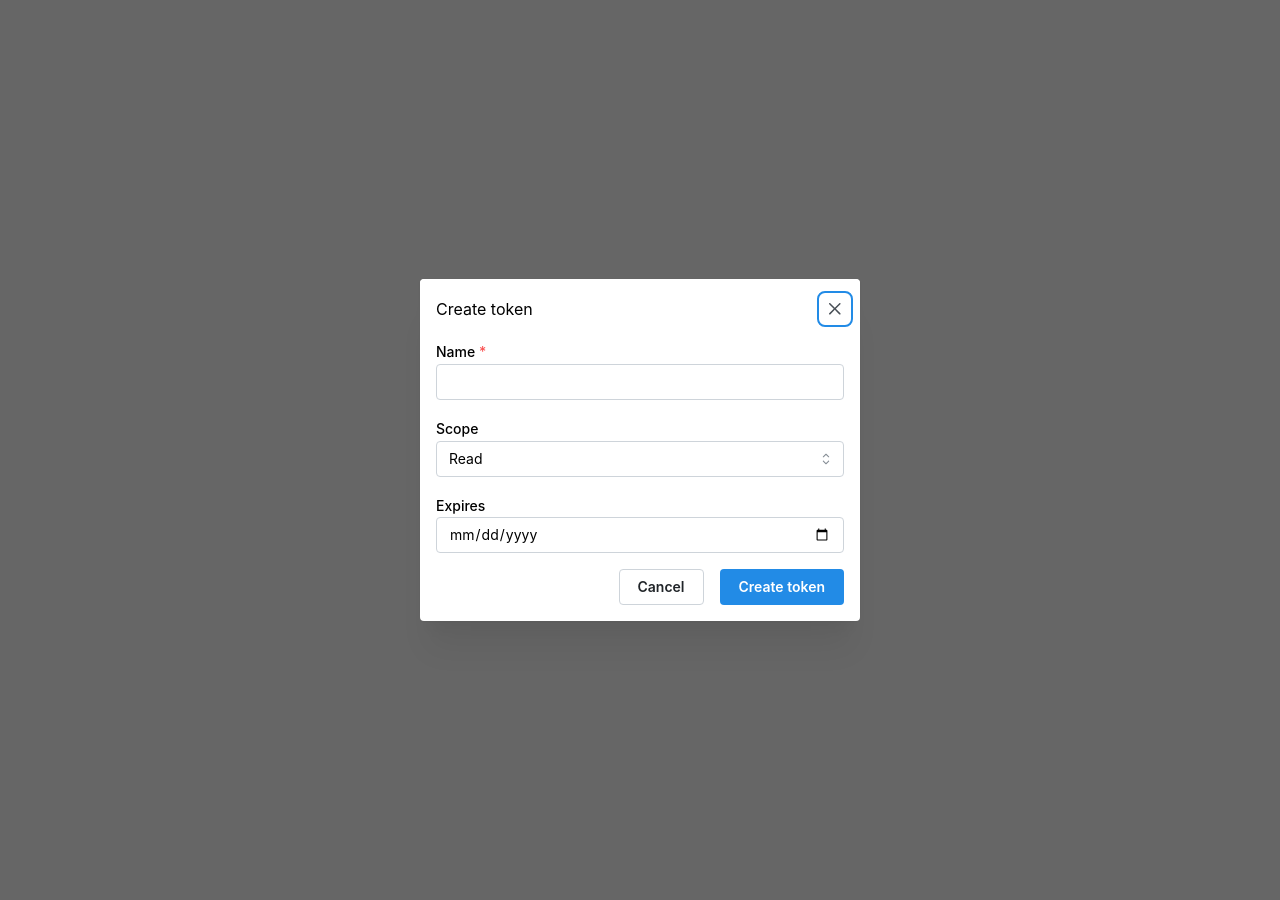
Test: CreateTokenModal › shows the server-written detail verbatim on a validation failure
Type "x" into the field labelled "Name *" at point(640, 382), box [436,364,844,400]
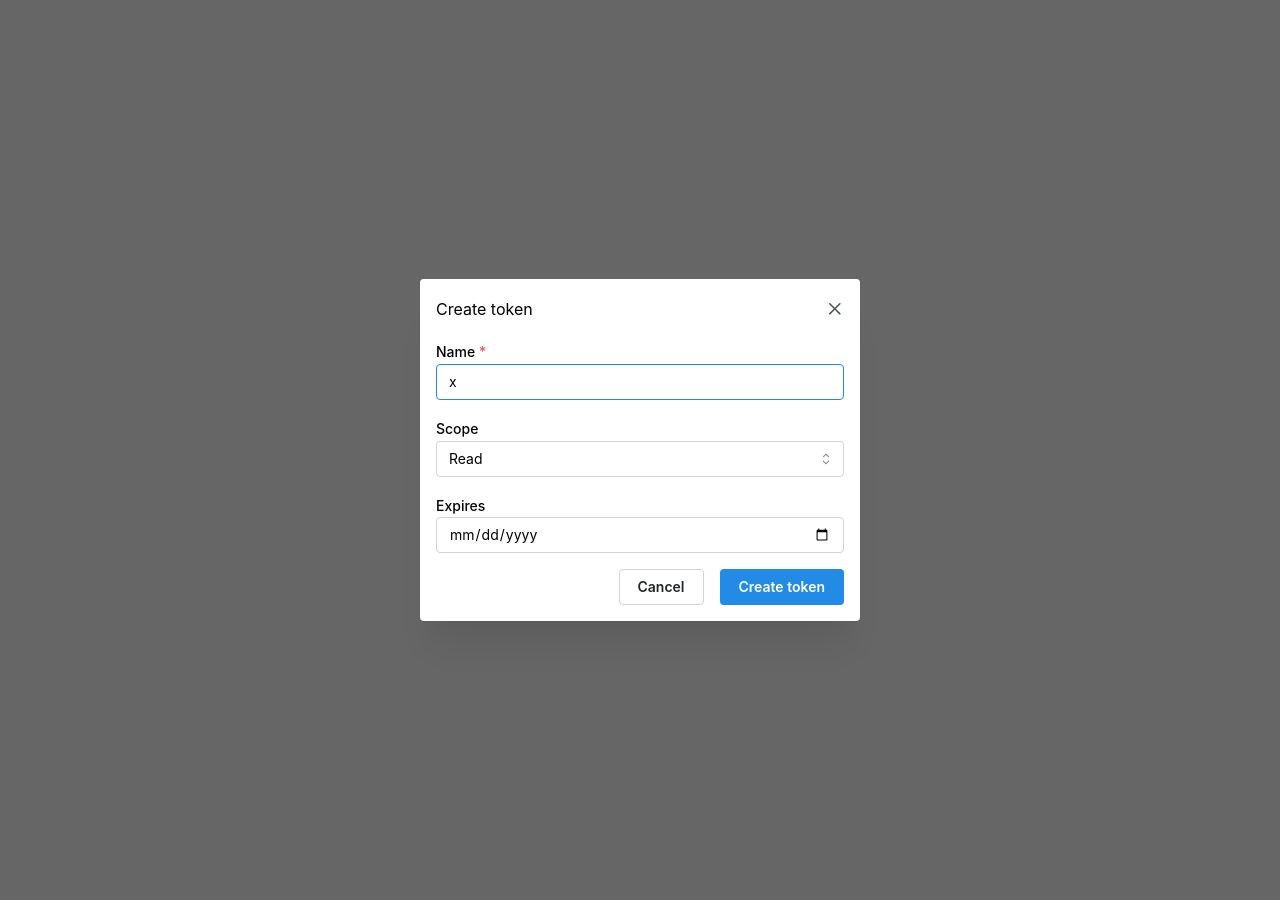
Click the button "Create token" at point(782, 587), box [720,569,844,605]
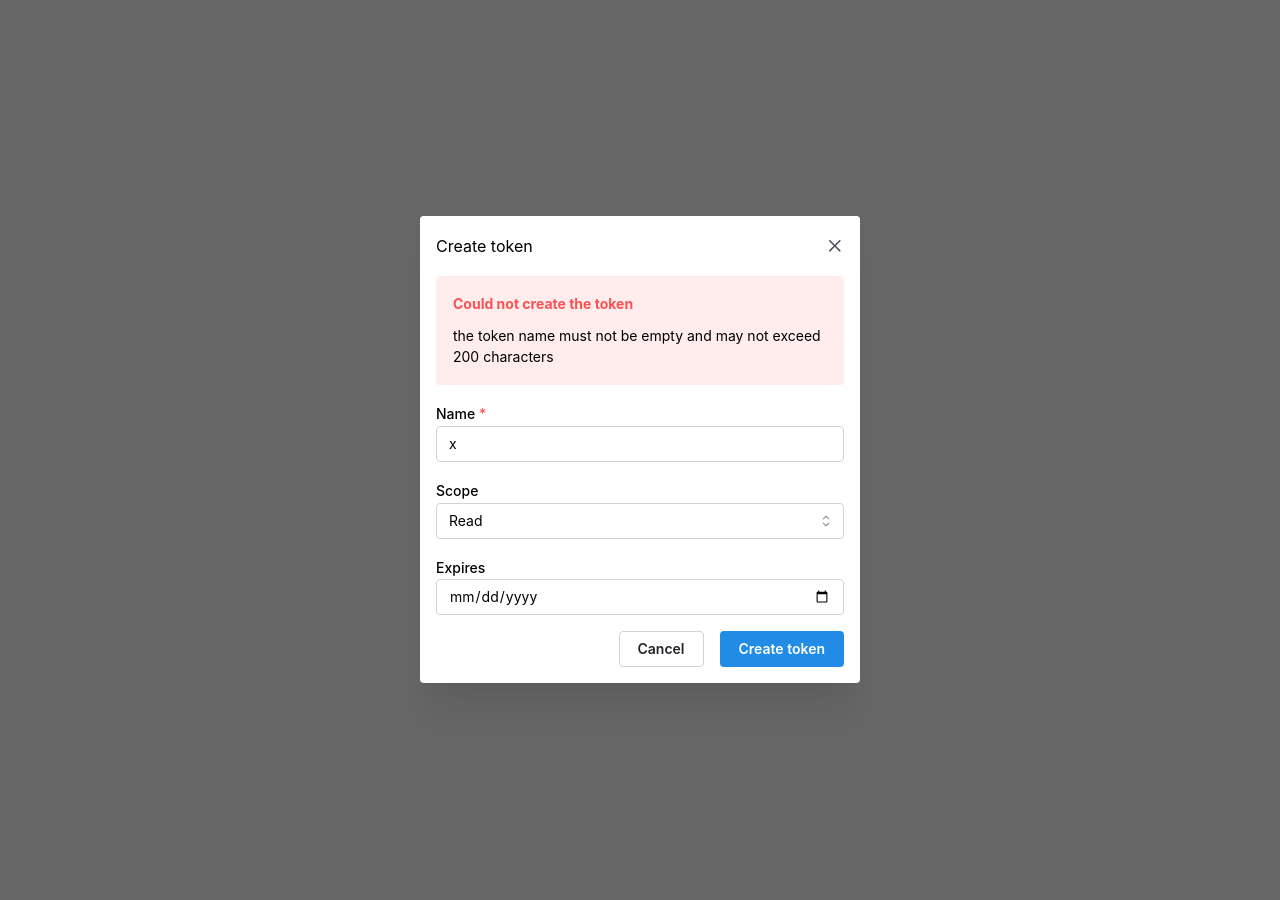
Expected: the text "the token name must not be empty and may not exceed 200 characters" is shown, [453,325,827,368]
